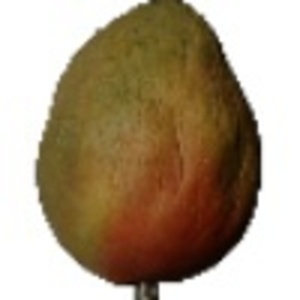mamão: (34, 4, 268, 286)
